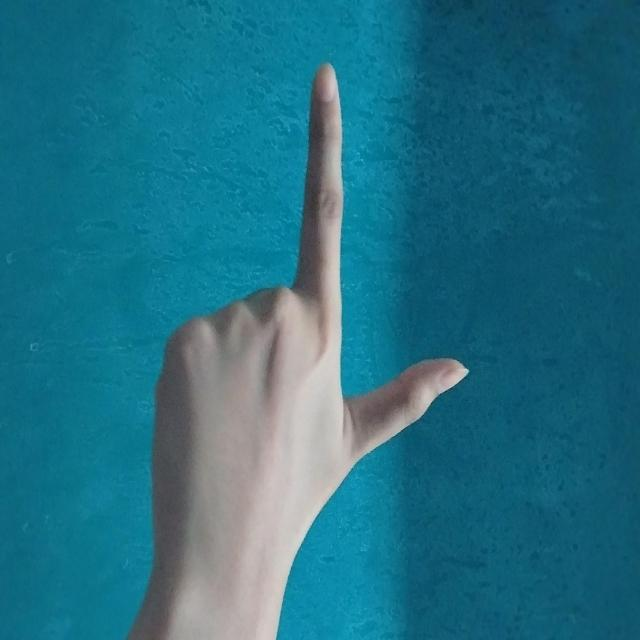G: (64, 169, 548, 495)
